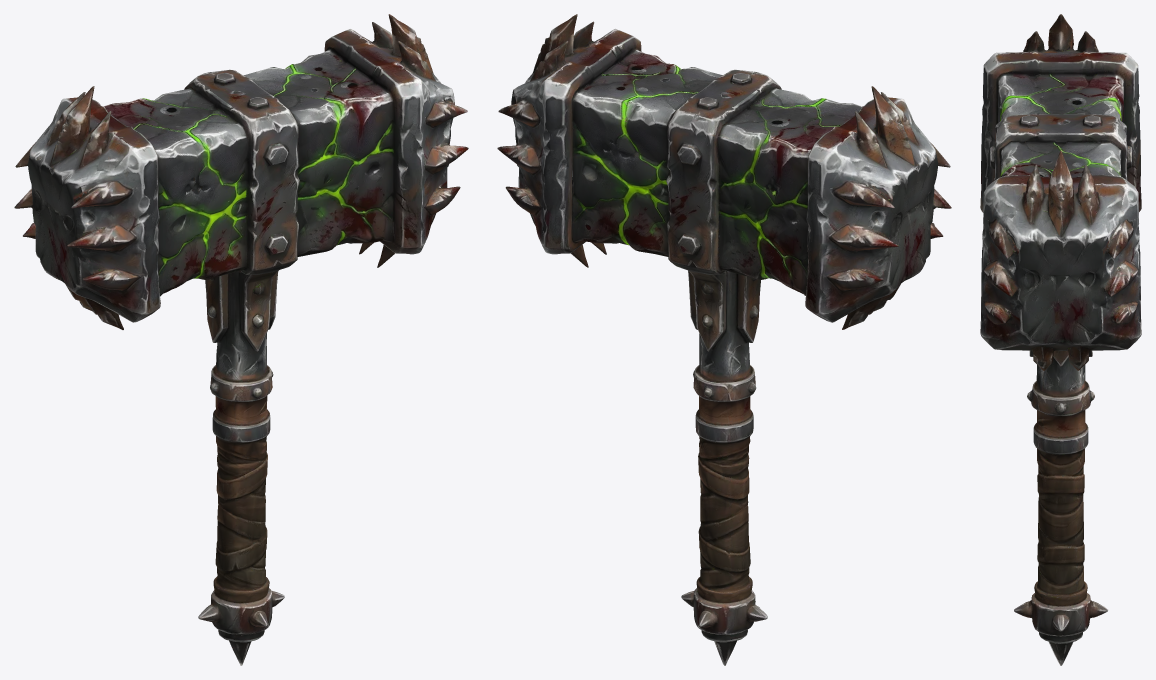
Rendered from weapon-maul.glb.
3 renders of one model, left to right at view 1: azimuth 30°, elevation 25°; view 2: azimuth 150°, elevation 25°; view 3: azimuth 270°, elevation 25°, orthographic. The views are drawn at different scales.
Visible parts, largest first — view 1: Mesh_0; view 2: Mesh_0; view 3: Mesh_0.
Boxes of the visible parts, x1,y1,x2,y2 form: Mesh_0: [14, 14, 468, 665]; Mesh_0: [497, 14, 951, 665]; Mesh_0: [980, 14, 1141, 665].
Size of the model in its own units: 1.3 by 1.91 by 0.4782.
Materials: 1 (1 with a texture image).
